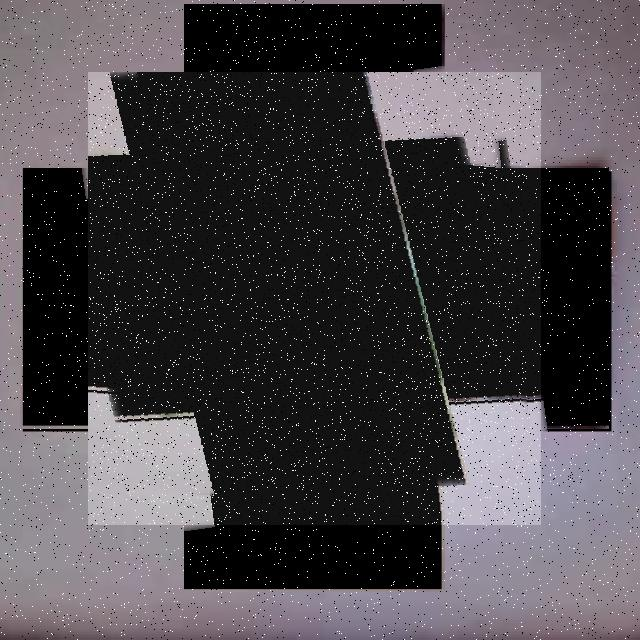lima puluh ribu rupiah: (88, 72, 541, 525)
